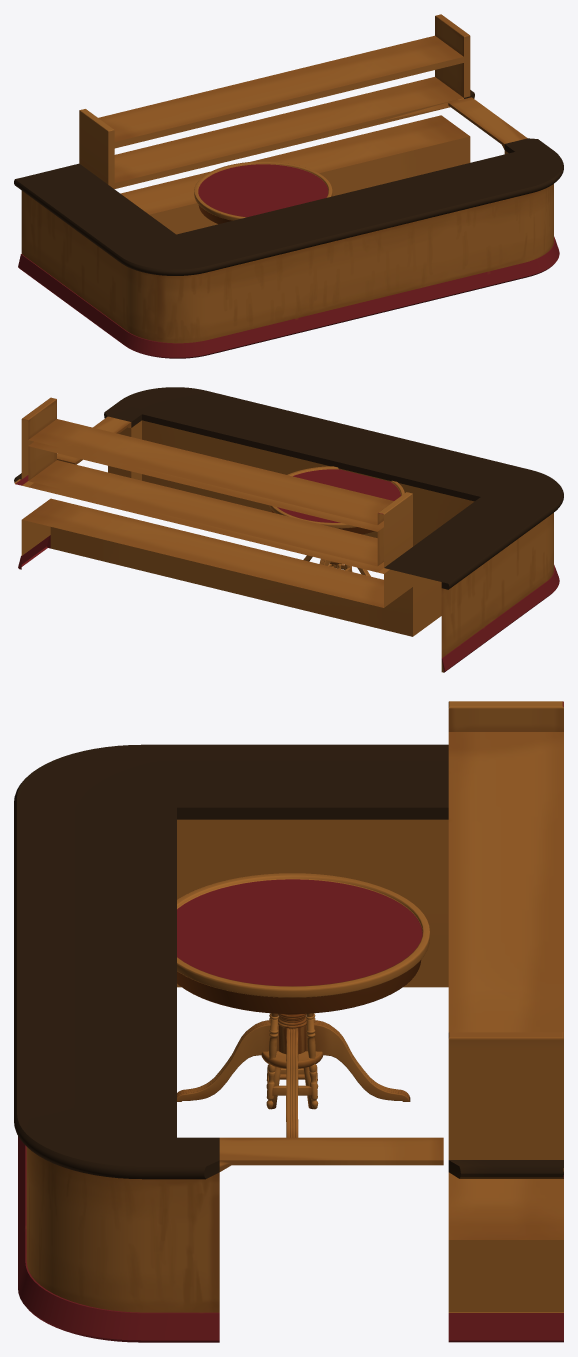
The model's file is PokerTable.fbx.
The picture shows the model from 3 angles, top to bottom: view 1: azimuth 30°, elevation 25°; view 2: azimuth 150°, elevation 25°; view 3: azimuth 270°, elevation 25°; orthographic projection. The views are drawn at different scales.
Parts seen in each view (by area): view 1: BarTableBase, TableTop; view 2: BarTableBase, TableTop; view 3: BarTableBase, TableTop, BarStoolBase, FootstoolBase.
Part boxes in pixels (box(x1,y1,x2,y2)): BarTableBase: box(14, 14, 563, 358); TableTop: box(194, 161, 332, 224); BarTableBase: box(14, 387, 563, 672); TableTop: box(269, 466, 404, 576); BarTableBase: box(14, 701, 563, 1342); TableTop: box(177, 873, 429, 1137); BarStoolBase: box(266, 1013, 318, 1109); FootstoolBase: box(261, 1051, 323, 1109).
Size of the model in its own units: 531 by 176 by 291.
